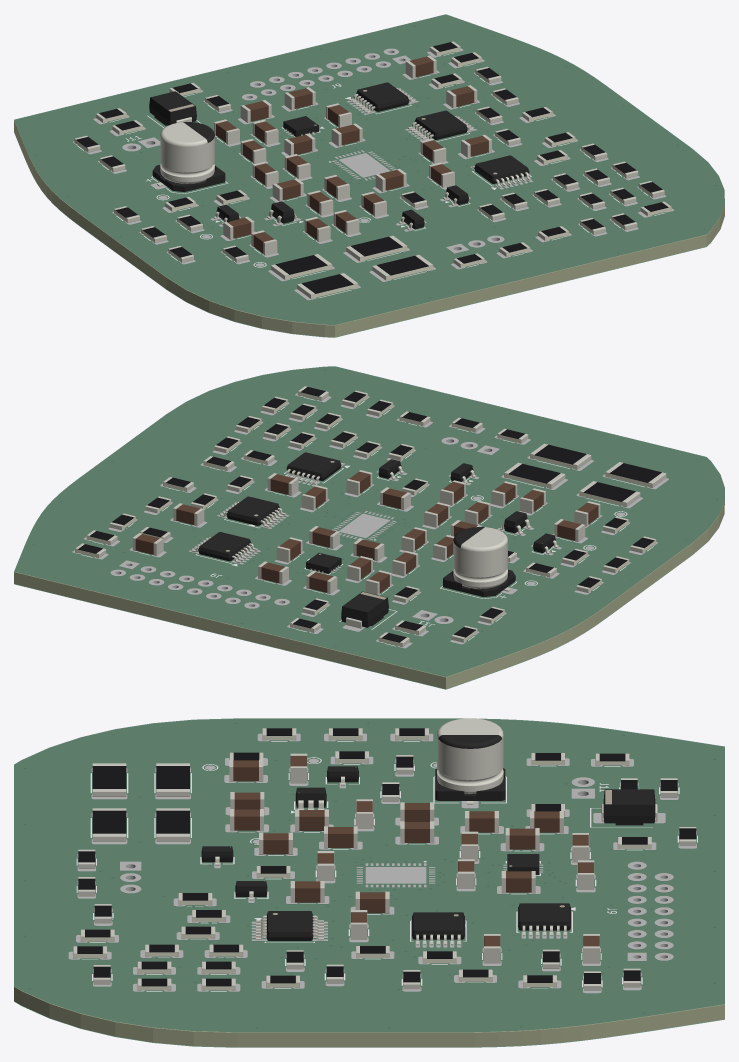
The model's file is Wheel.glb.
The picture shows the model from 3 angles, top to bottom: view 1: azimuth 30°, elevation 25°; view 2: azimuth 150°, elevation 25°; view 3: azimuth 270°, elevation 25°; orthographic projection. The views are drawn at different scales.
Visible parts, largest first — view 1: =>[0:1:1:25], =>[0:1:1:23], =>[0:1:1:20], =>[0:1:1:9] (×10), =>[0:1:1:15], =>[0:1:1:3] (×4), =>[0:1:1:7] (×3), =>[0:1:1:21], =>[0:1:1:11], =>[0:1:1:24], =>[0:1:1:17]; view 2: =>[0:1:1:25], =>[0:1:1:23], =>[0:1:1:20], =>[0:1:1:9] (×9), =>[0:1:1:15], =>[0:1:1:3] (×4), =>[0:1:1:7] (×3), =>[0:1:1:21], =>[0:1:1:11], =>[0:1:1:24], =>[0:1:1:17]; view 3: =>[0:1:1:25], =>[0:1:1:23], =>[0:1:1:9] (×20), =>[0:1:1:20], =>[0:1:1:15], =>[0:1:1:7] (×3), =>[0:1:1:3] (×4), =>[0:1:1:21], =>[0:1:1:11], =>[0:1:1:19] (×3), =>[0:1:1:24], =>[0:1:1:13] (+1 smaller).
Boxes of the visible parts, x1,y1,x2,y2 form: =>[0:1:1:25]: (14, 15, 724, 337); =>[0:1:1:23]: (14, 14, 724, 324); =>[0:1:1:20]: (73, 48, 674, 300); =>[0:1:1:9] (×10): (223, 55, 491, 239); =>[0:1:1:15]: (152, 122, 225, 191); =>[0:1:1:3] (×4): (271, 235, 433, 299); =>[0:1:1:7] (×3): (349, 82, 531, 187); =>[0:1:1:21]: (77, 52, 665, 298); =>[0:1:1:11]: (149, 91, 196, 125); =>[0:1:1:24]: (14, 133, 724, 337); =>[0:1:1:17]: (283, 116, 318, 136); =>[0:1:1:25]: (14, 367, 724, 689); =>[0:1:1:23]: (14, 366, 724, 676); =>[0:1:1:20]: (72, 393, 668, 648); =>[0:1:1:9] (×9): (132, 473, 585, 594); =>[0:1:1:15]: (443, 527, 515, 596); =>[0:1:1:3] (×4): (504, 443, 666, 506); =>[0:1:1:7] (×3): (191, 452, 343, 563); =>[0:1:1:21]: (81, 397, 653, 646); =>[0:1:1:11]: (341, 591, 388, 628); =>[0:1:1:24]: (14, 514, 724, 689); =>[0:1:1:17]: (306, 552, 341, 573); =>[0:1:1:25]: (14, 719, 724, 1047); =>[0:1:1:23]: (14, 718, 724, 1032); =>[0:1:1:9] (×20): (229, 753, 594, 963); =>[0:1:1:20]: (68, 733, 696, 993); =>[0:1:1:15]: (435, 718, 505, 804); =>[0:1:1:7] (×3): (256, 903, 570, 945); =>[0:1:1:3] (×4): (92, 763, 189, 841); =>[0:1:1:21]: (76, 741, 697, 991); =>[0:1:1:11]: (601, 789, 657, 825); =>[0:1:1:19] (×3): (201, 766, 358, 900); =>[0:1:1:24]: (14, 1001, 724, 1047); =>[0:1:1:13]: (295, 787, 326, 809).
Bounding box in the file's own units: 0.07 × 0.00757 × 0.067.
